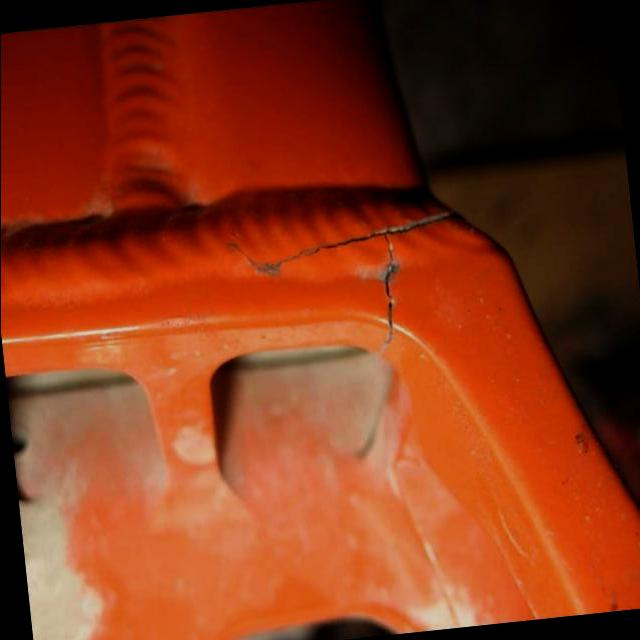defect: (210, 204, 457, 360)
